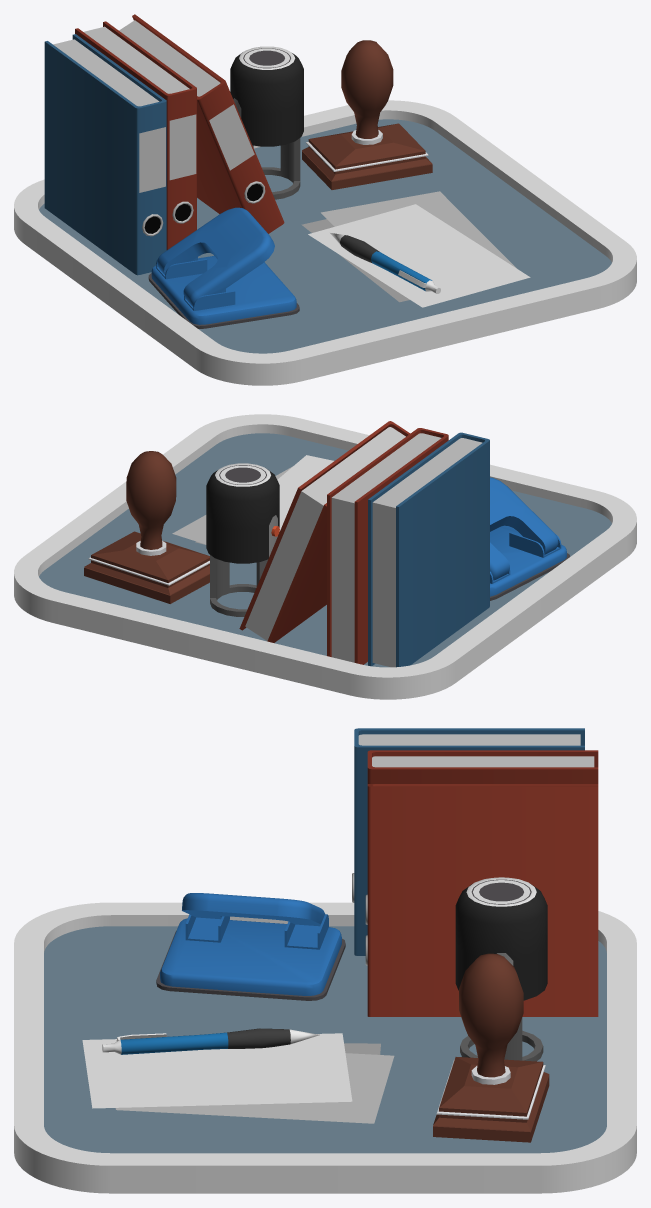
The model's file is Лицензиат.gltf.
The picture shows the model from 3 angles, top to bottom: view 1: azimuth 30°, elevation 25°; view 2: azimuth 150°, elevation 25°; view 3: azimuth 270°, elevation 25°; orthographic projection. The views are drawn at different scales.
Parts seen in each view (by area): view 1: Cube.002; view 2: Cube.002; view 3: Cube.002.
Boxes of the visible parts, left/top/right/bottom form: Cube.002: left=14, top=14, right=636, bottom=385; Cube.002: left=14, top=414, right=636, bottom=699; Cube.002: left=14, top=728, right=636, bottom=1193.
Bounding box in the file's own units: 6.01 × 2.4 × 6.01.
